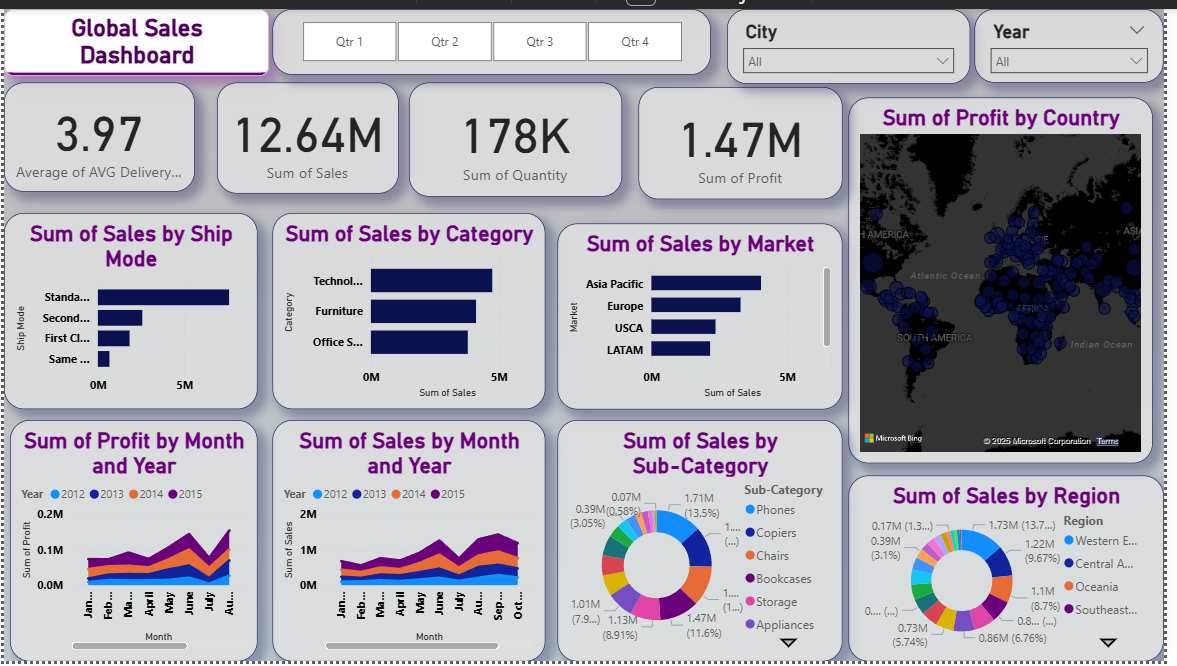

The page's visual inventory and layout, read from the dashboard file:
{"tool":"powerbi","page":{"name":"Sales Dashboardd","canvas":[1280,720],"ordinal":0},"visuals":[{"type":"textbox","title":"Global Sales Dashboard","box":[0,0,292.9,73.7],"z":0},{"type":"clusteredBarChart","fields":{"Category":["Orders.Ship Mode"],"Y":["Sum(Orders.Sales)"]},"box":[0,225.3,279.9,217],"z":1000},{"type":"clusteredBarChart","fields":{"Y":["Sum(Orders.Sales)"],"Category":["Orders.Category"]},"box":[296.5,225.3,301.5,217],"z":2000},{"type":"clusteredBarChart","fields":{"Y":["Sum(Orders.Sales)"],"Category":["Orders.Market"]},"box":[611.2,236.9,314.7,205.4],"z":3000},{"type":"map","fields":{"Category":["Orders.Country"],"Size":["Sum(Orders.Profit)"]},"box":[932.6,97.7,336.3,404.2],"z":4000},{"type":"stackedAreaChart","fields":{"Category":["Orders.Order Date.Variation.Date Hierarchy.Month"],"Y":["Sum(Orders.Sales)"],"Series":["Orders.Order Date.Variation.Date Hierarchy.Year"]},"box":[296.5,453.9,301.5,266.7],"z":5000},{"type":"stackedAreaChart","fields":{"Category":["Orders.Order Date.Variation.Date Hierarchy.Month"],"Series":["Orders.Order Date.Variation.Date Hierarchy.Year"],"Y":["Sum(Orders.Profit)"]},"box":[6.6,453.9,273.3,266.7],"z":6000},{"type":"donutChart","fields":{"Category":["Orders.Sub-Category"],"Y":["Sum(Orders.Sales)"]},"box":[611.2,453.9,314.7,266.7],"z":7000},{"type":"donutChart","fields":{"Category":["Orders.Region"],"Y":["Sum(Orders.Sales)"]},"box":[932.6,515.2,347.9,205.4],"z":8000},{"type":"card","fields":{"Values":["Sum(Orders.Sales)"]},"box":[235.2,81.2,200.4,122.6],"z":10000},{"type":"card","fields":{"Values":["Sum(Orders.Profit)"]},"box":[700.7,86.1,225.3,124.2],"z":11000},{"type":"card","fields":{"Values":["Avg(Orders.AVG DeliveryDays)"]},"box":[0,81.2,210.4,120.9],"z":12000},{"type":"card","fields":{"Values":["Sum(Orders.Quantity)"]},"box":[447.2,81.2,235.2,125.9],"z":13000},{"type":"slicer","fields":{"Values":["Orders.City"]},"box":[798.4,0,268.3,82.8],"z":14000},{"type":"slicer","fields":{"Values":["Orders.Order Date.Variation.Date Hierarchy.Year"]},"box":[1071.7,0,208.7,81.2],"z":15000},{"type":"slicer","fields":{"Values":["Orders.Order Date.Variation.Date Hierarchy.Quarter"]},"box":[296.5,0,483.7,72.9],"z":17000}]}

Visuals, with their boxes in screenshot pixels (x1, y1, x2, y2), scaled from the page's 1280x720 canvas onto the 1177x666 screenshot:
"Global Sales Dashboard" textbox: 0 0 269 68
clusteredBarChart - Orders.Ship Mode x Sum(Orders.Sales): 0 208 257 409
clusteredBarChart - Sum(Orders.Sales) x Orders.Category: 273 208 550 409
clusteredBarChart - Sum(Orders.Sales) x Orders.Market: 562 219 851 409
map - Orders.Country x Sum(Orders.Profit): 858 90 1167 464
stackedAreaChart - Orders.Order Date.Variation.Date Hierarchy.Month x Sum(Orders.Sales): 273 420 550 665
stackedAreaChart - Orders.Order Date.Variation.Date Hierarchy.Month x Orders.Order Date.Variation.Date Hierarchy.Year: 6 420 257 665
donutChart - Orders.Sub-Category x Sum(Orders.Sales): 562 420 851 665
donutChart - Orders.Region x Sum(Orders.Sales): 858 477 1176 665
card - Sum(Orders.Sales): 216 75 401 189
card - Sum(Orders.Profit): 644 80 851 195
card - Avg(Orders.AVG DeliveryDays): 0 75 193 187
card - Sum(Orders.Quantity): 411 75 627 192
slicer - Orders.City: 734 0 981 77
slicer - Orders.Order Date.Variation.Date Hierarchy.Year: 985 0 1176 75
slicer - Orders.Order Date.Variation.Date Hierarchy.Quarter: 273 0 717 67
